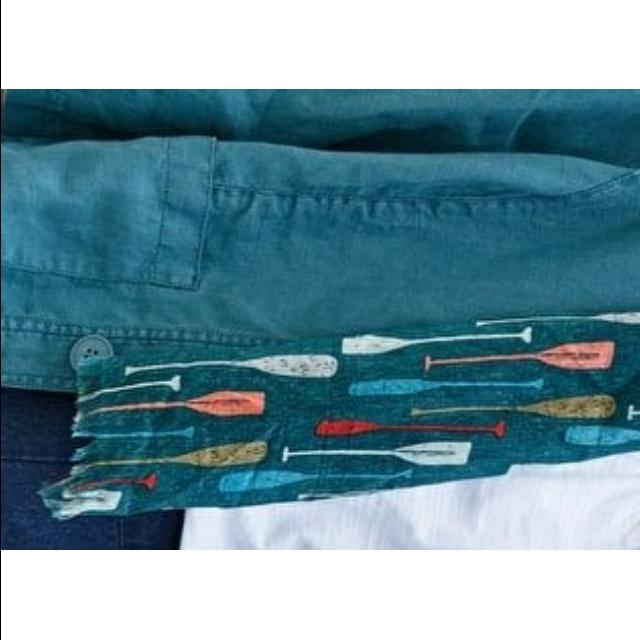linen: (0, 104, 640, 320)
